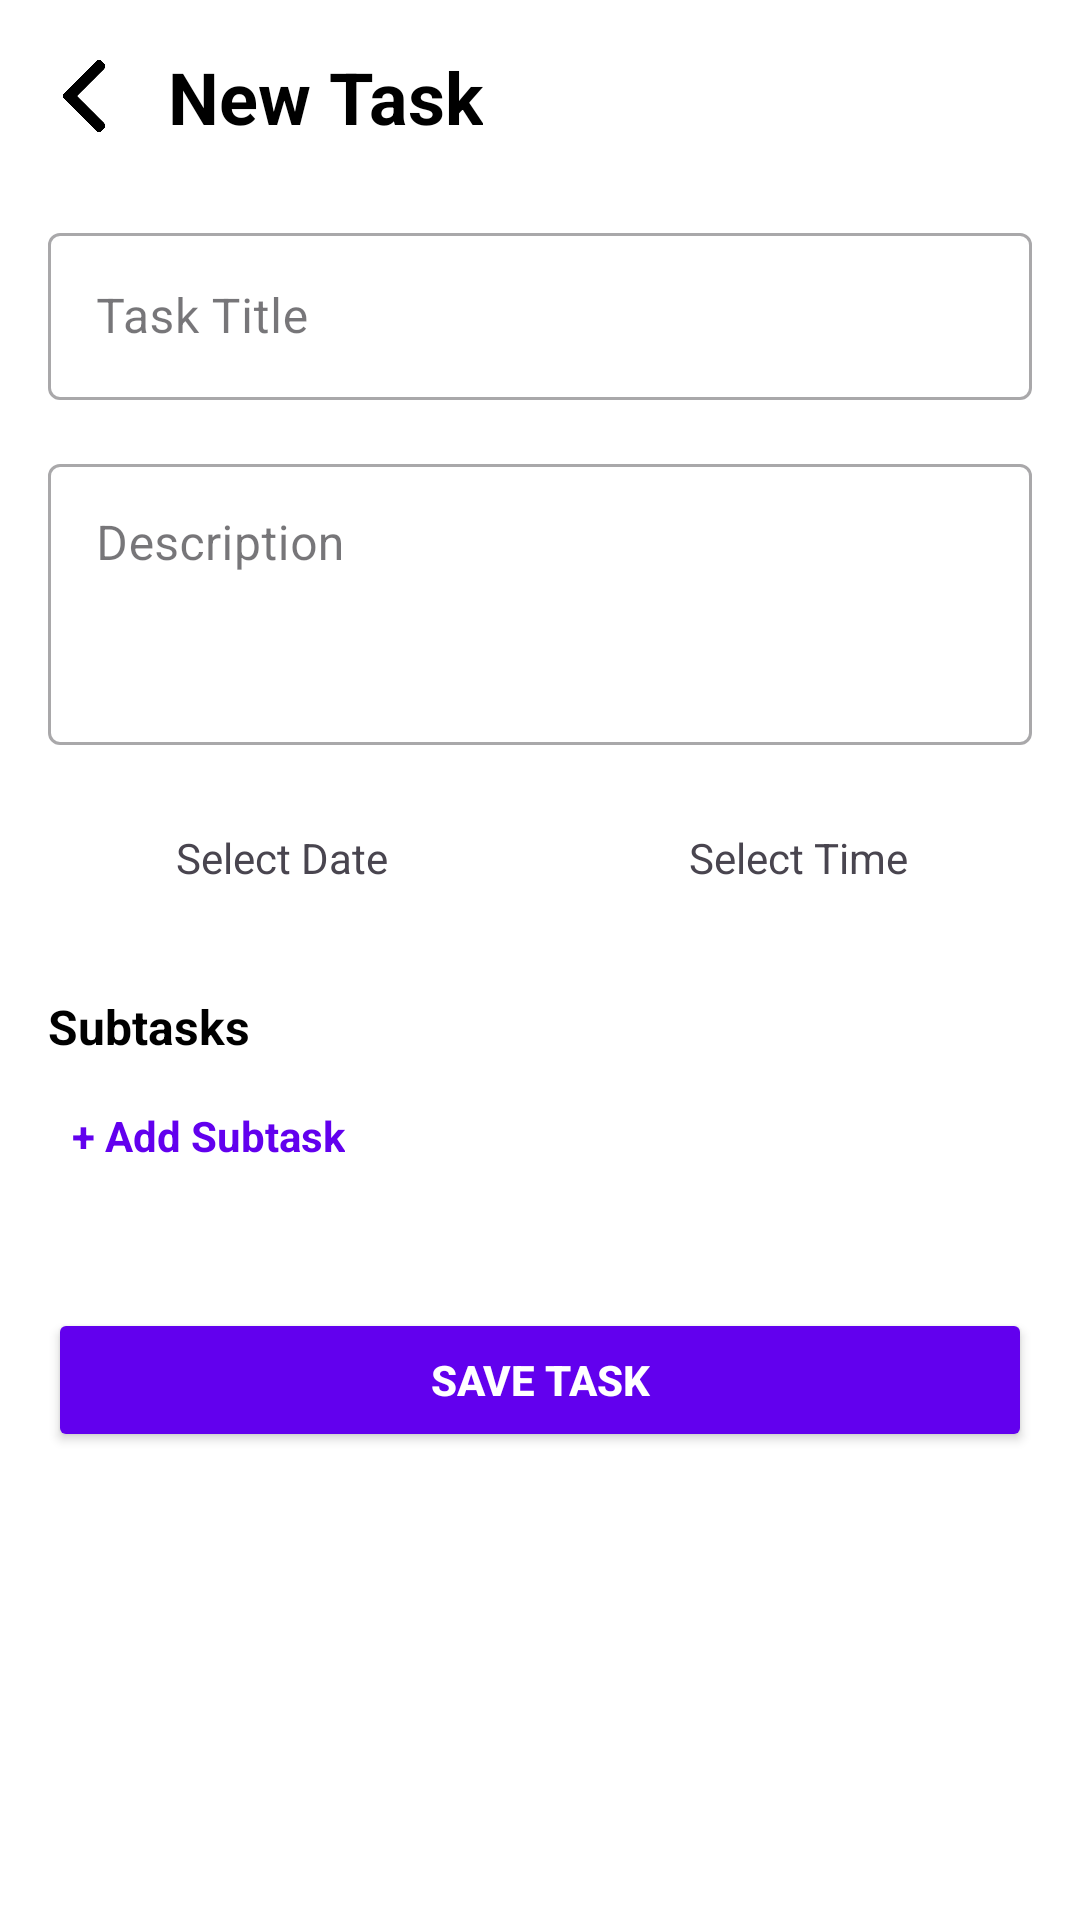

Screen size 1080 x 1920. Icon name, then its box in pixels as bbox=(x1, y1, x2, y2):
Back: bbox=(63, 60, 105, 132)
